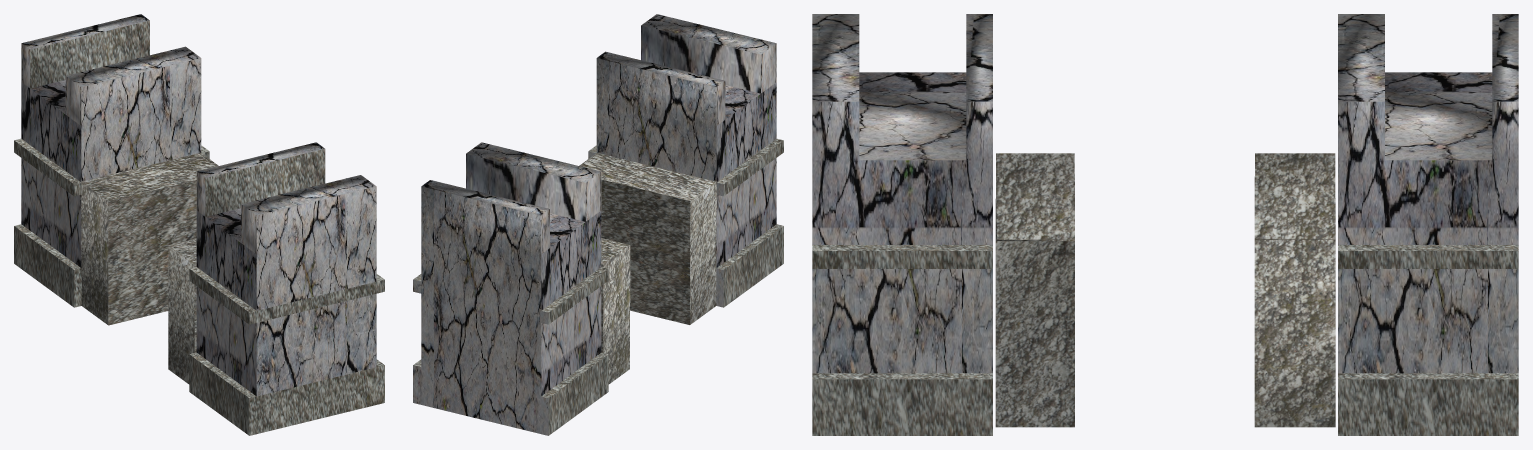
Rendered from Hittites_wall_entrance_semidemolished.fbx.
3 renders of one model, left to right at view 1: azimuth 30°, elevation 25°; view 2: azimuth 150°, elevation 25°; view 3: azimuth 270°, elevation 25°, orthographic. The views are drawn at different scales.
Parts seen in each view (by area): view 1: Cube.002, Circle; view 2: Cube.002, Circle; view 3: Cube.002, Circle.
Boxes of the visible parts, x1,y1,x2,y2 form: Cube.002: [14, 14, 384, 435]; Circle: [81, 152, 218, 384]; Cube.002: [413, 14, 783, 435]; Circle: [579, 153, 716, 384]; Cube.002: [812, 14, 1518, 435]; Circle: [995, 153, 1335, 427].
Size of the model in its own units: 260 by 401 by 782.
